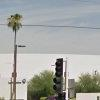Traffic light: (43, 48, 81, 100)
